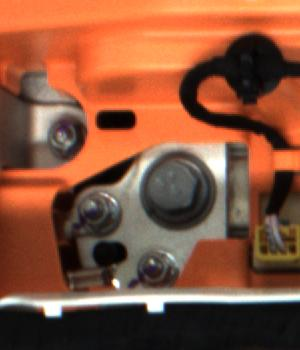nut_b: (137, 153, 219, 229)
screw_s: (140, 246, 173, 288), (79, 192, 112, 229), (41, 121, 77, 154)
